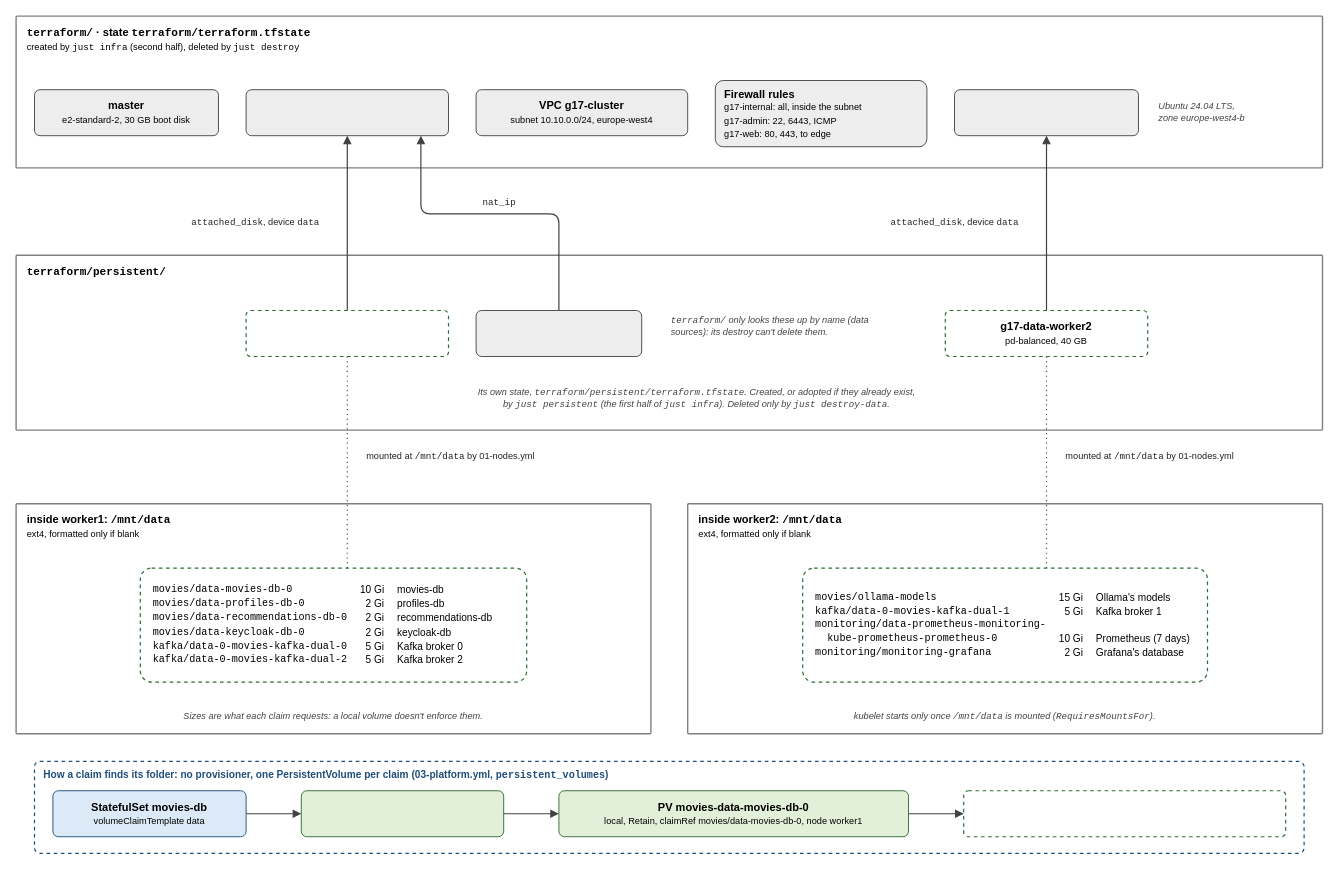
Some shapes in this 1340 by 870 pixel diagram are drawn without their labels. The centre of each missing label's shape, as x and y in pixels:
/mnt/data/movies/data-movies-db-0 on worker1's data disk: [1124,813]
g17-data-worker1 pd-balanced, 40 GB: [347,333]
g17-edge static external IP: [558,333]
PVC data-movies-db-0 StorageClass persistent: [402,813]
worker1 (tag edge) e2-standard-4, 30 GB boot disk: [346,112]
worker2 e2-standard-4, 30 GB boot disk: [1046,112]
